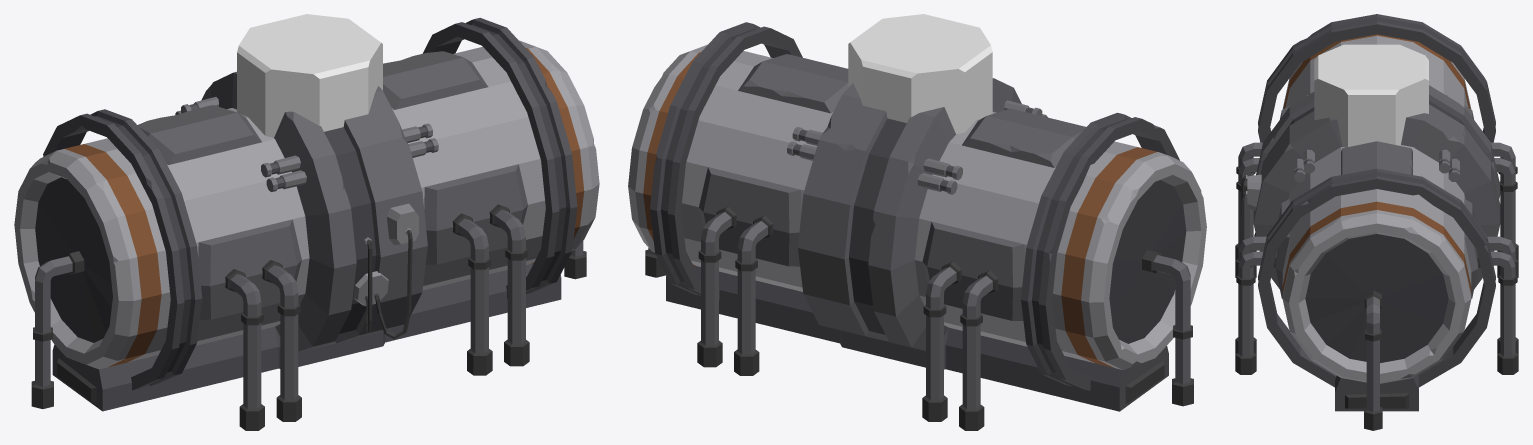
File: SM_Prop_Tank_01.fbx
3 views of the same model, side by side, from view 1: azimuth 30°, elevation 25°; view 2: azimuth 150°, elevation 25°; view 3: azimuth 270°, elevation 25° (orthographic). The views are drawn at different scales.
Visible parts, largest first — view 1: SM_Prop_Tank_01_LOD0, SM_Prop_Tank_01_ConvexHulls; view 2: SM_Prop_Tank_01_LOD0, SM_Prop_Tank_01_ConvexHulls; view 3: SM_Prop_Tank_01_LOD0, SM_Prop_Tank_01_ConvexHulls.
Boxes of the visible parts, bbox=[...] form: SM_Prop_Tank_01_LOD0: bbox=[14, 17, 599, 430]; SM_Prop_Tank_01_ConvexHulls: bbox=[237, 14, 382, 137]; SM_Prop_Tank_01_LOD0: bbox=[628, 22, 1206, 430]; SM_Prop_Tank_01_ConvexHulls: bbox=[848, 14, 992, 134]; SM_Prop_Tank_01_LOD0: bbox=[1235, 14, 1518, 430]; SM_Prop_Tank_01_ConvexHulls: bbox=[1314, 44, 1428, 147].
Size of the model in its own units: 296 by 564 by 287.
Materials: 1 (1 with a texture image).
